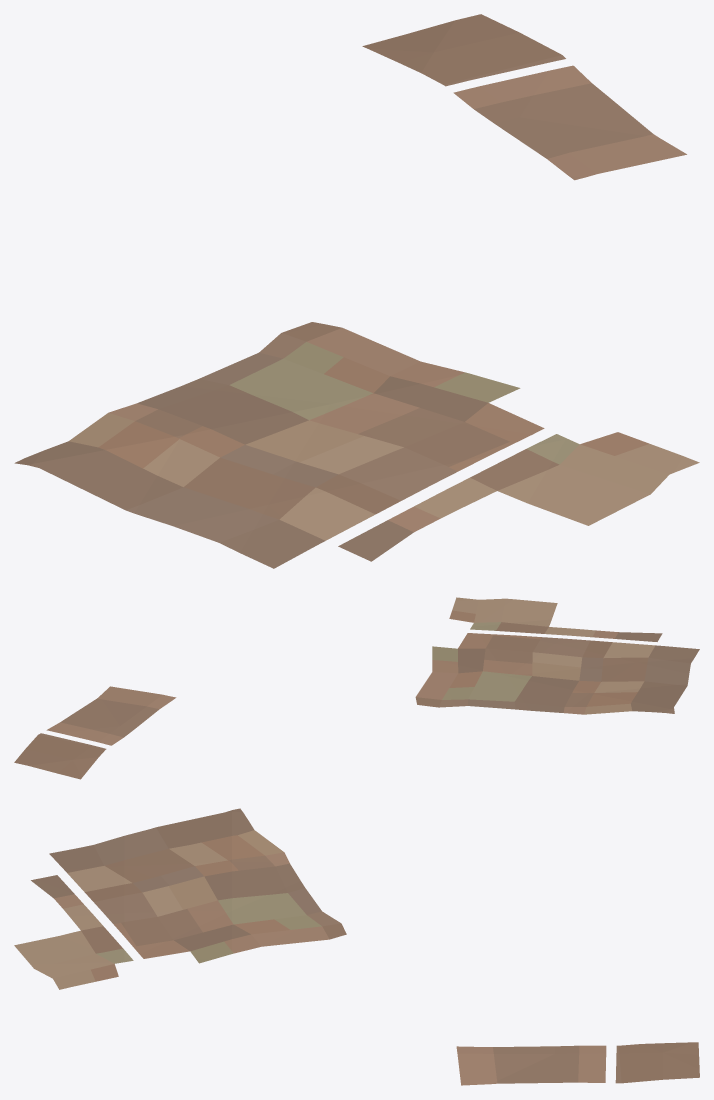
File: farm_18_14_soil.glb
3 renders of one model, top to bottom at view 1: azimuth 30°, elevation 25°; view 2: azimuth 150°, elevation 25°; view 3: azimuth 270°, elevation 25°, orthographic. The views are drawn at different scales.
Visible parts, largest first — view 1: geometry_0; view 2: geometry_0; view 3: geometry_0.
Part boxes in pixels (left/top/right/bottom): geometry_0: left=14, top=14, right=699, bottom=568; geometry_0: left=14, top=597, right=699, bottom=779; geometry_0: left=14, top=808, right=699, bottom=1085.
Bounding box in the file's own units: 458 × 14.92 × 510.
